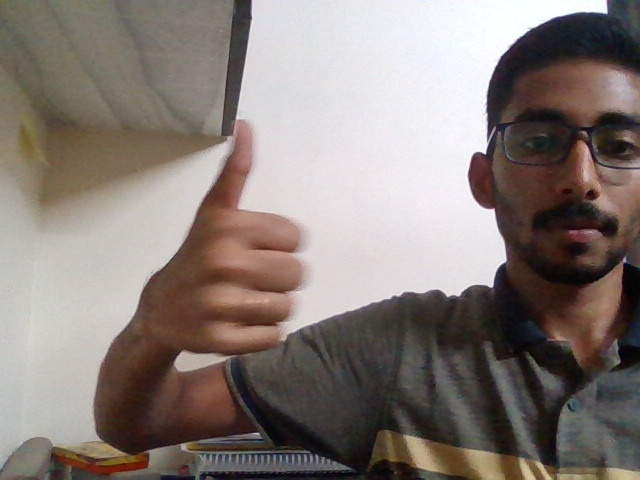Yes: (147, 103, 311, 387)
